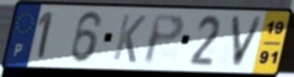1: (36, 10, 54, 62)
2: (188, 14, 223, 68)
6: (69, 9, 103, 66)
K: (110, 12, 148, 65)
P: (142, 12, 188, 67)
V: (229, 14, 266, 70)
